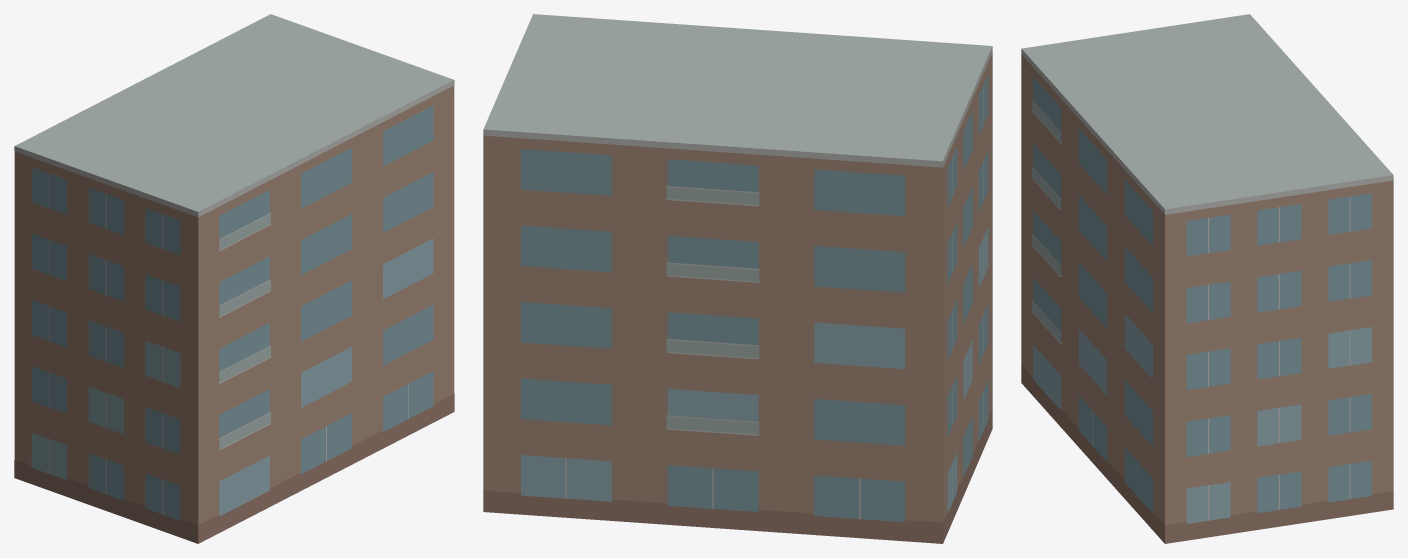
Rendered from survey-upis-32853137.glb.
3 renders of one model, left to right at view 1: azimuth 30°, elevation 25°; view 2: azimuth 150°, elevation 25°; view 3: azimuth 270°, elevation 25°, orthographic. The views are drawn at different scales.
Visible parts, largest first — view 1: survey-upis-32853137.tmp; view 2: survey-upis-32853137.tmp; view 3: survey-upis-32853137.tmp.
Boxes of the visible parts, x1,y1,x2,y2 form: survey-upis-32853137.tmp: [14, 14, 454, 543]; survey-upis-32853137.tmp: [483, 14, 992, 543]; survey-upis-32853137.tmp: [1021, 14, 1393, 543].
Bounding box in the file's own units: 18.95 × 15.1 × 15.24.
